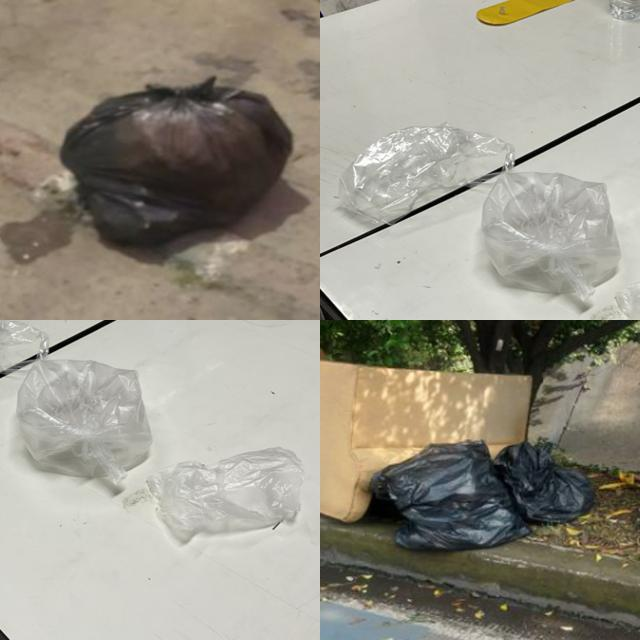Single-layer Plastic: (61, 76, 292, 244), (481, 172, 621, 304), (339, 125, 514, 224), (371, 441, 529, 550), (16, 360, 152, 485), (148, 448, 304, 542), (494, 442, 594, 522)
